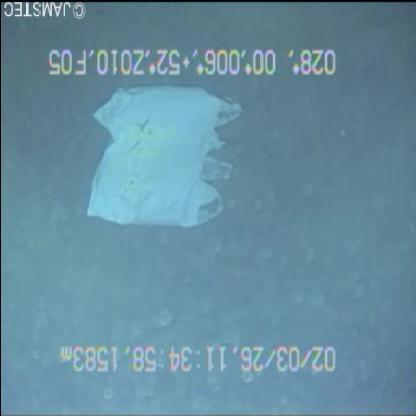Rác: (80, 76, 252, 246)
